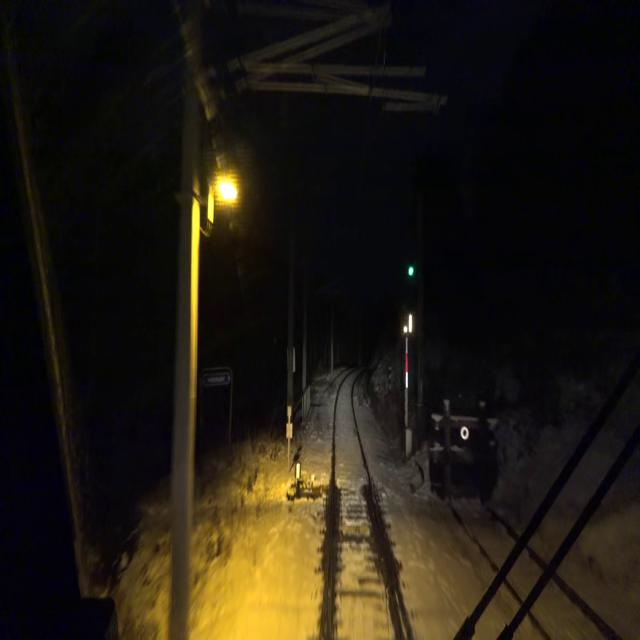rail-track: (331, 372, 404, 639), (457, 504, 515, 564)
